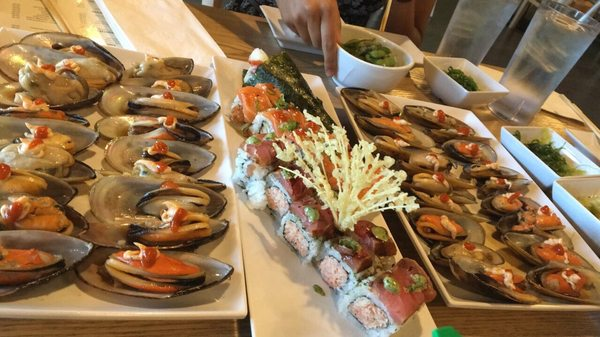sushi: (335, 29, 415, 93)
